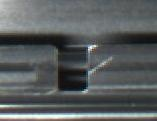oneu: (41, 41, 107, 99)
